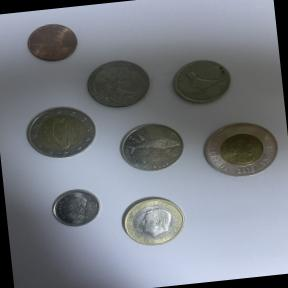1 Euro-B: (108, 187, 199, 258)
2 Euro-B: (19, 102, 102, 166)
Canada-10cent-B: (42, 181, 109, 236)
Canada-2Dollar-B: (192, 108, 288, 189)
Croatia-2Kune-B: (110, 118, 192, 180)
US-1cent-B: (17, 13, 90, 72)
US-25cent-B: (81, 55, 157, 115)
